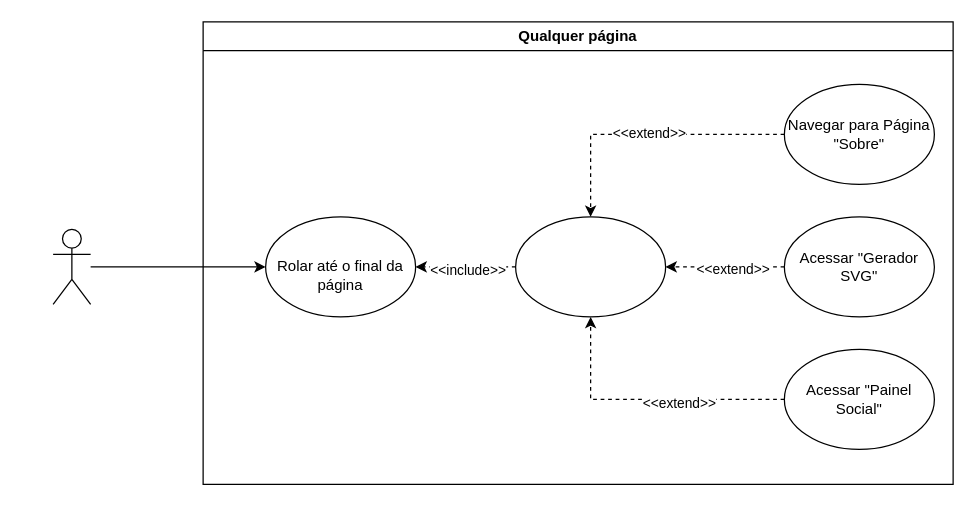
This 975x506 diagram has some shape labels left out. Here are the shapes that lost their labels. From the top down, the box of each, then its label:
(52, 228, 91, 304): Lead ou cliente
(514, 216, 666, 317): Navegar pelo Rodapé
